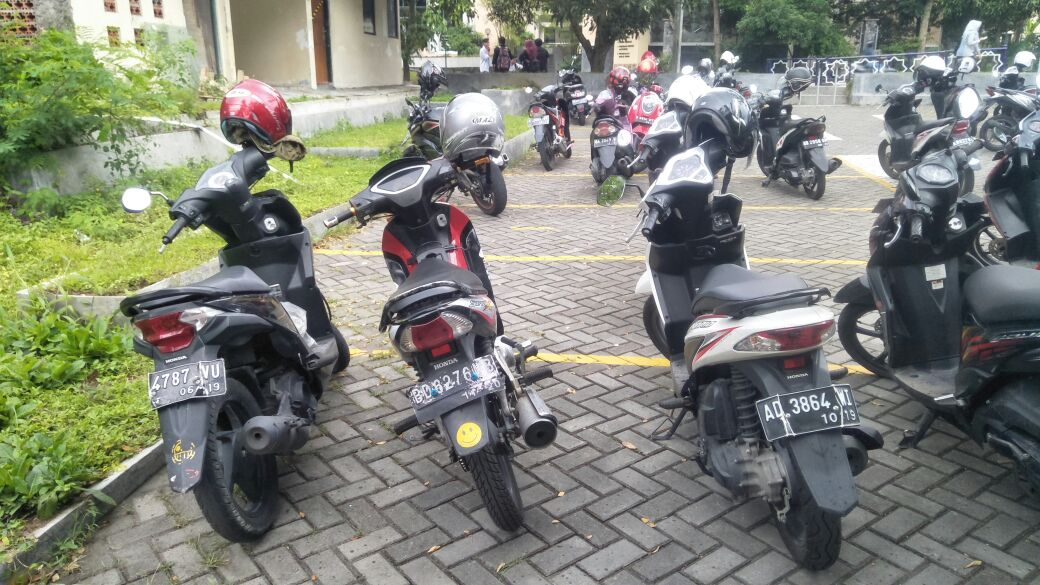plate: (407, 353, 503, 427), (758, 382, 861, 442), (149, 357, 228, 408)
